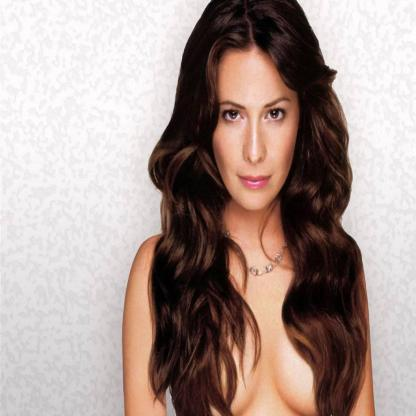long-hair: (151, 213, 361, 282)
